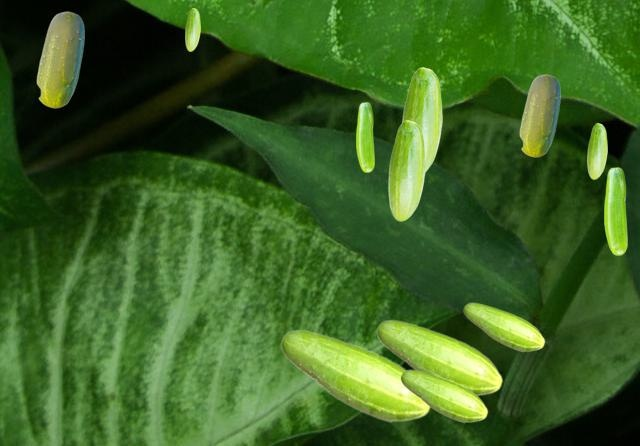cucumber: (280, 329, 430, 422), (376, 319, 502, 396), (400, 369, 487, 422), (36, 11, 83, 107), (401, 67, 441, 173), (463, 302, 544, 351), (388, 120, 424, 220), (519, 74, 559, 156), (604, 167, 626, 254), (356, 102, 373, 171), (587, 123, 606, 178), (185, 8, 199, 50)
